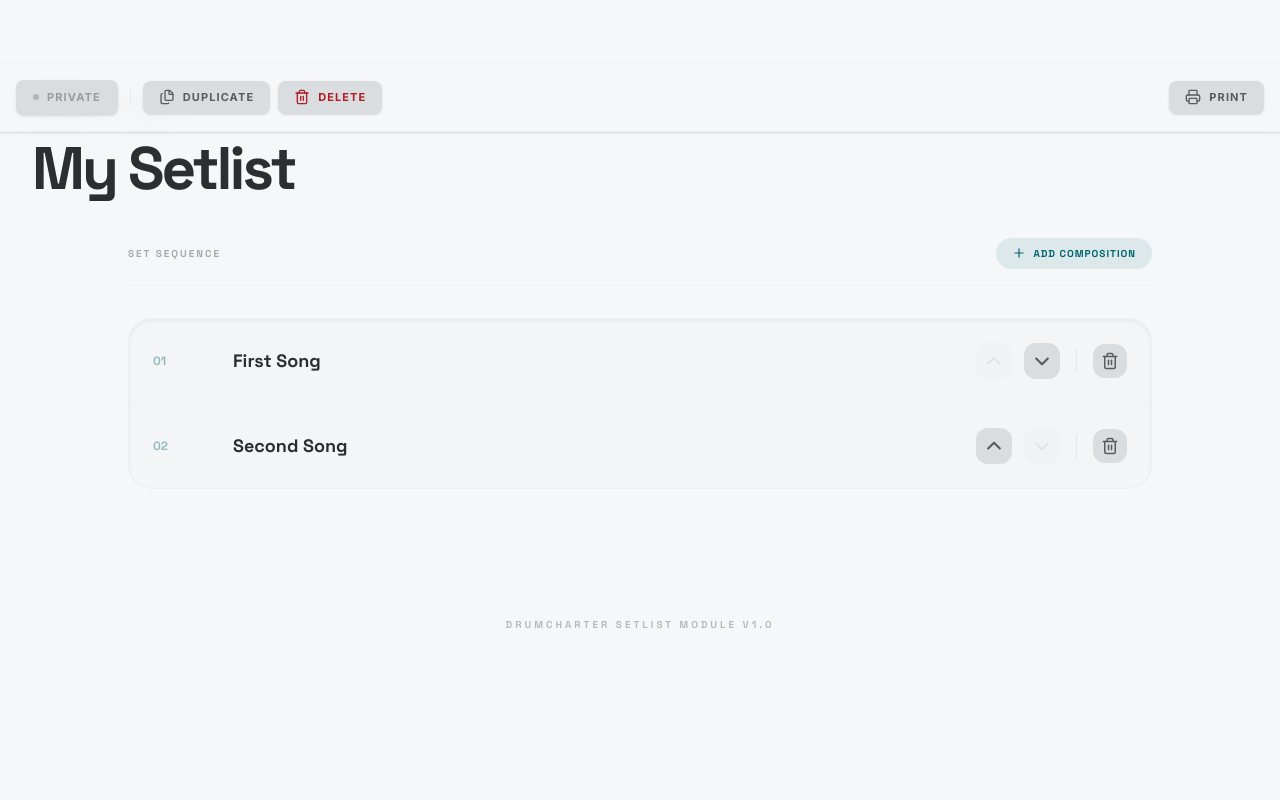
SetlistEditor › removes a song from the setlist
Expected: the text "First Song" is shown, [233,348,321,372]
Click the button titled "Remove from Setlist": (1110, 360) [1093,344,1127,378]
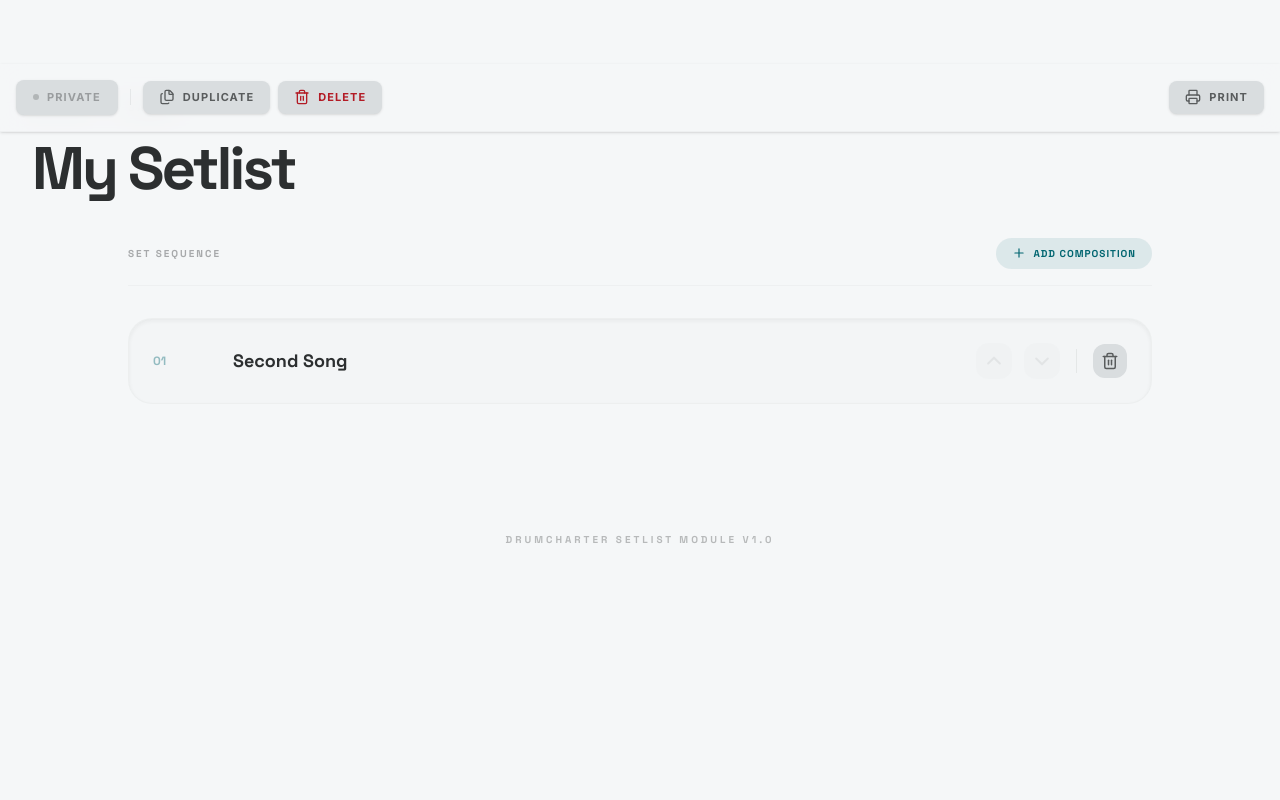
Now the text "First Song" is gone
